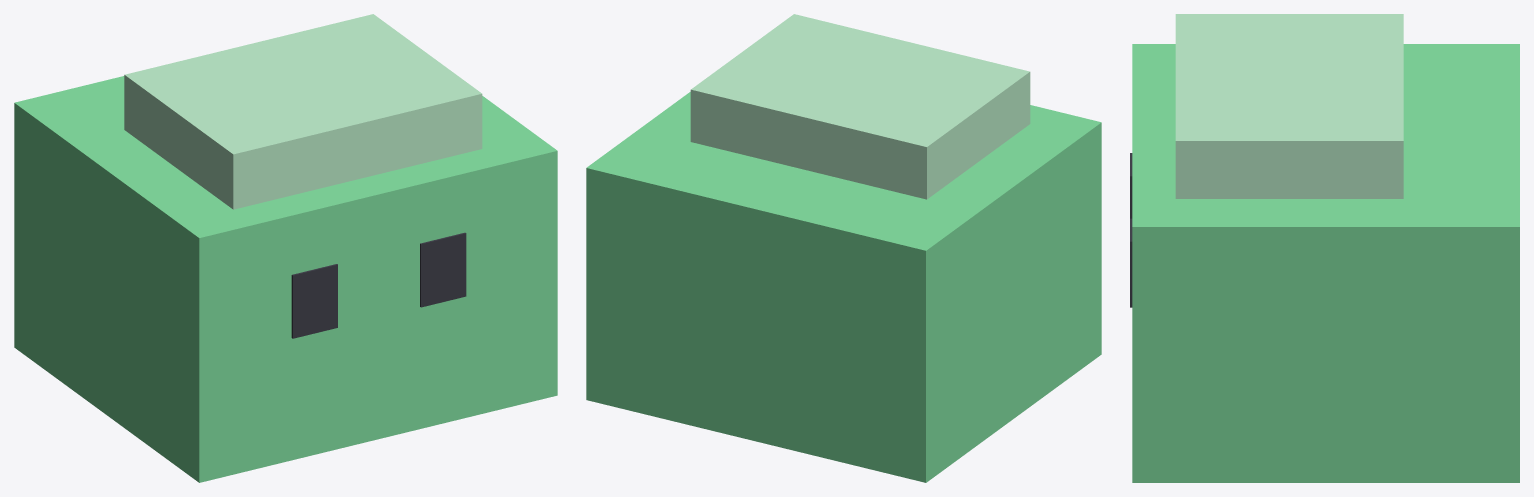
The model's file is treasure_leech.gltf.
The picture shows the model from 3 angles, left to right: view 1: azimuth 30°, elevation 25°; view 2: azimuth 150°, elevation 25°; view 3: azimuth 270°, elevation 25°; orthographic projection. The views are drawn at different scales.
Parts seen in each view (by area): view 1: blob, dome, eyeL, eyeR; view 2: blob, dome; view 3: blob, dome.
Part boxes in pixels (bbox=[...]): blob: bbox=[14, 76, 557, 482]; dome: bbox=[124, 14, 482, 209]; eyeL: bbox=[291, 264, 337, 338]; eyeR: bbox=[420, 232, 466, 307]; blob: bbox=[586, 92, 1101, 482]; dome: bbox=[690, 14, 1030, 199]; blob: bbox=[1132, 44, 1519, 482]; dome: bbox=[1175, 14, 1403, 198].
Bounding box in the file's own units: 0.95 × 0.76 × 0.855.
